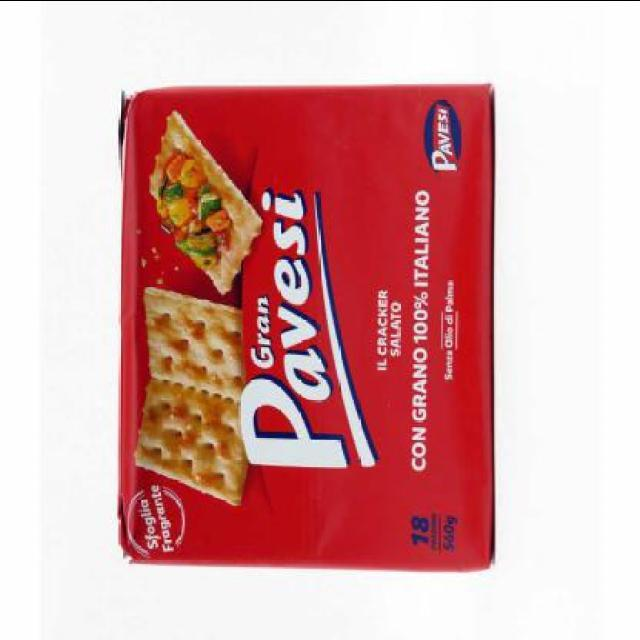Cracker: (107, 56, 504, 584)
